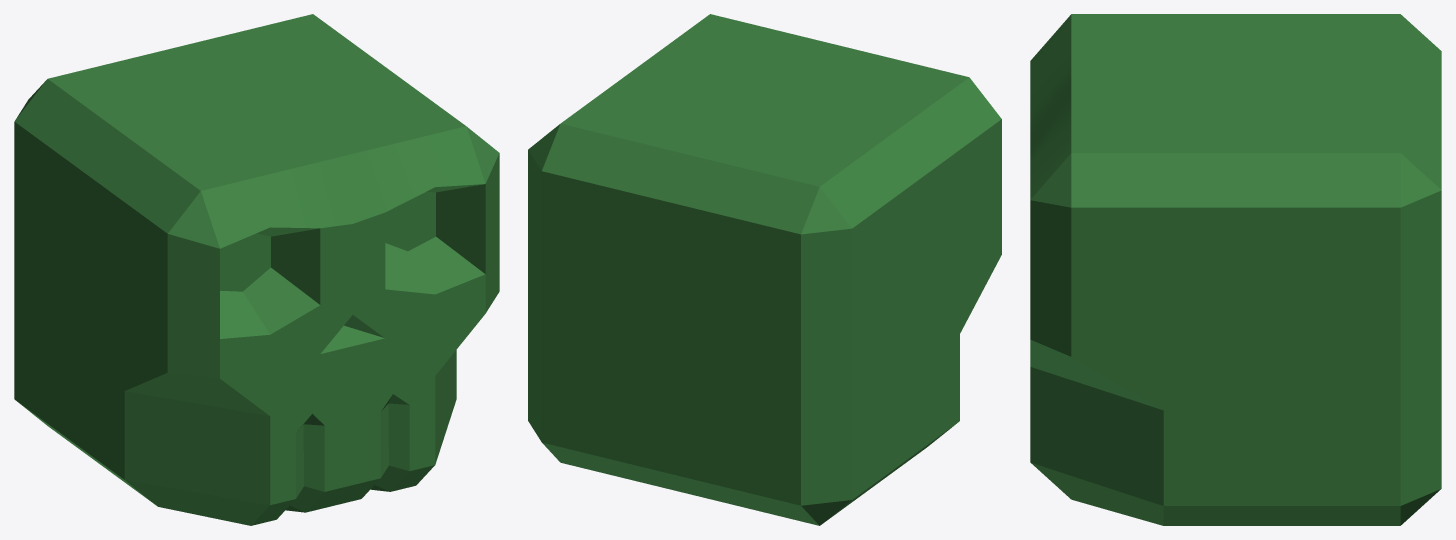
The model's file is m_dec_dung_statue_skullSmall.fbx.
3 views of the same model, side by side, from view 1: azimuth 30°, elevation 25°; view 2: azimuth 150°, elevation 25°; view 3: azimuth 270°, elevation 25° (orthographic). The views are drawn at different scales.
Parts seen in each view (by area): view 1: m_dec_dung_statue_skullSmall; view 2: m_dec_dung_statue_skullSmall; view 3: m_dec_dung_statue_skullSmall.
Part boxes in pixels (box(x1,y1,x2,y2)): m_dec_dung_statue_skullSmall: box(14, 14, 499, 525); m_dec_dung_statue_skullSmall: box(528, 14, 1001, 525); m_dec_dung_statue_skullSmall: box(1030, 14, 1441, 525).
Bounding box in the file's own units: 1 × 1 × 1.
